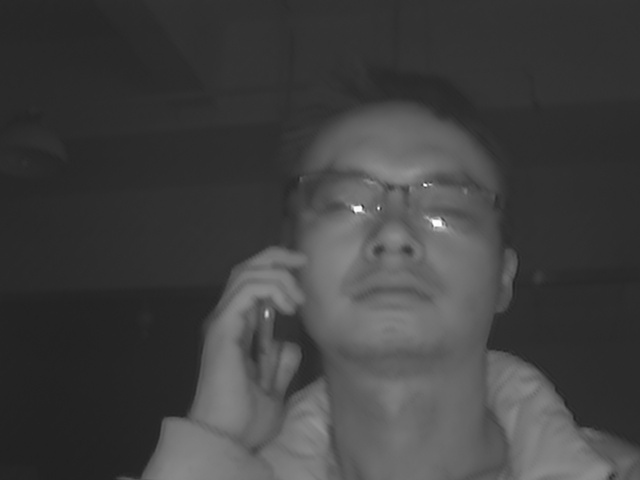hand: (190, 244, 307, 445)
